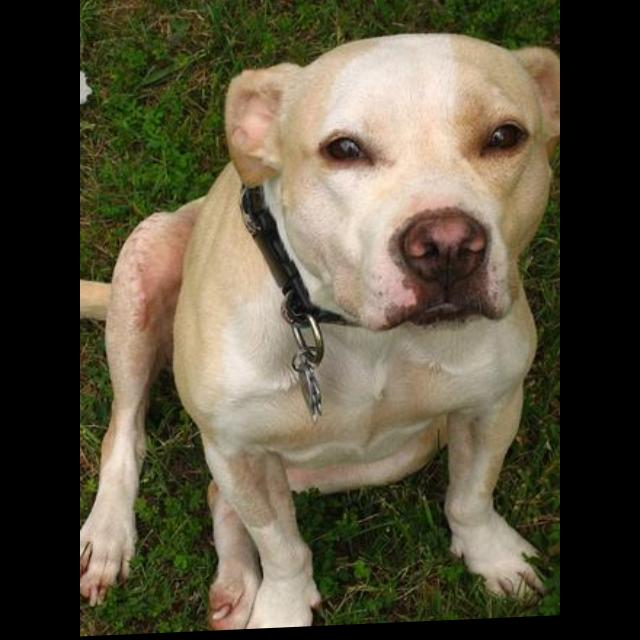amstaff: (81, 29, 561, 638)
